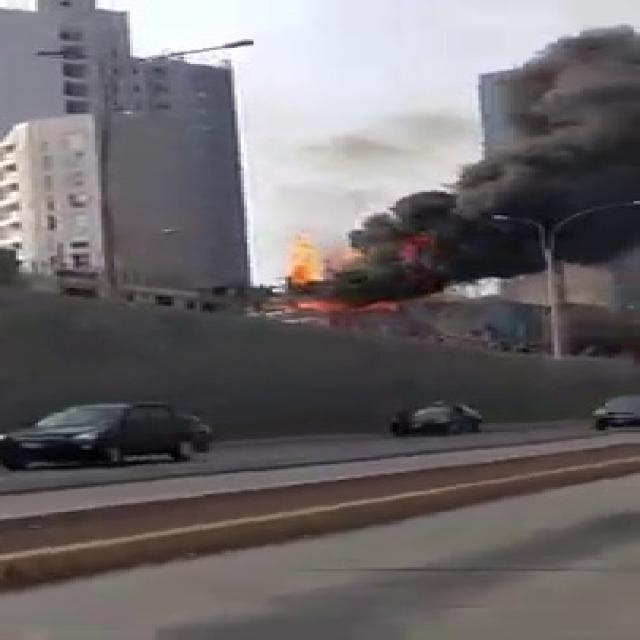Fire: (244, 245, 399, 320)
Smoke: (491, 34, 640, 268), (301, 180, 520, 336)
